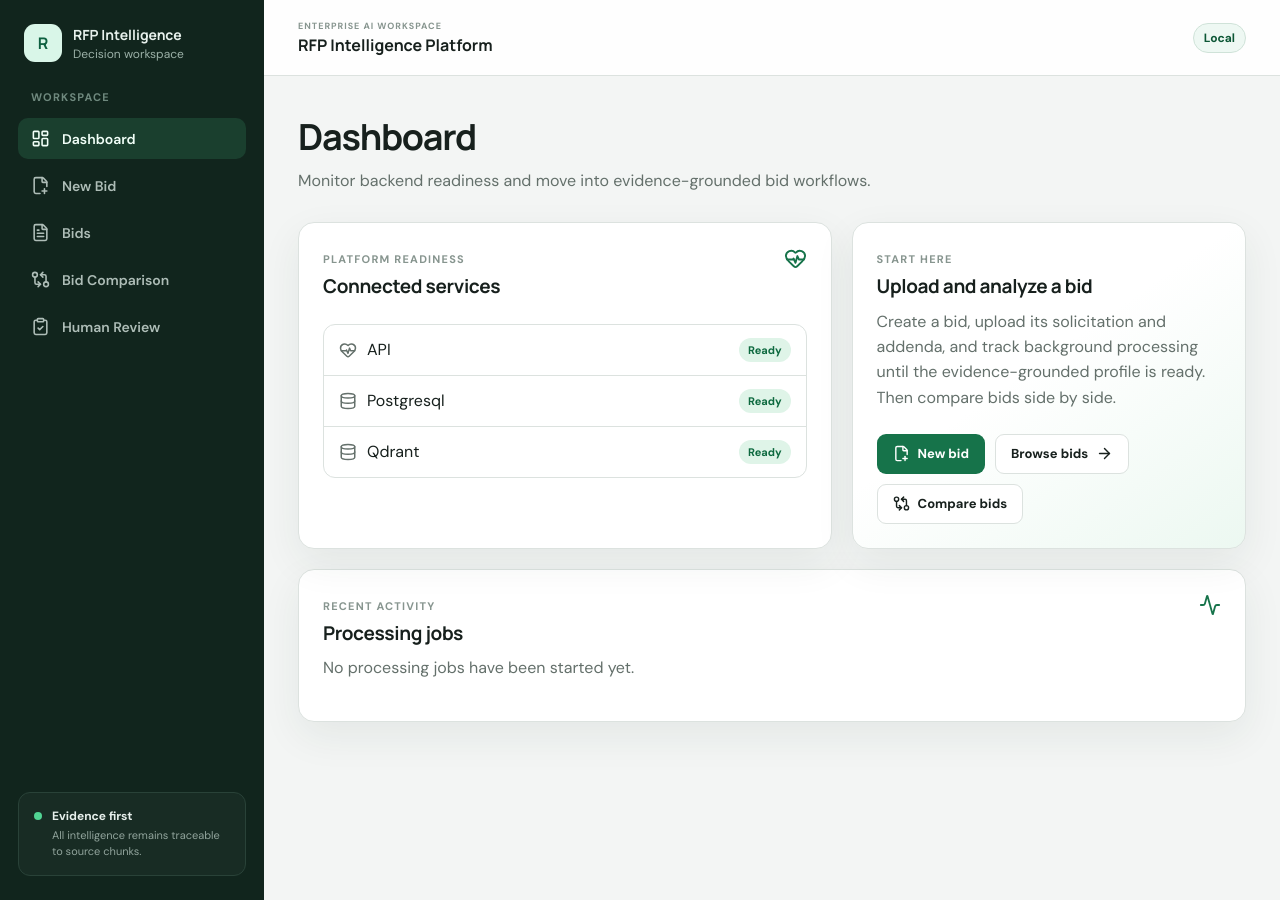
it: application routing › navigates between supported routes
Click the link "Bids" at [61, 232], box [31, 223, 91, 242]
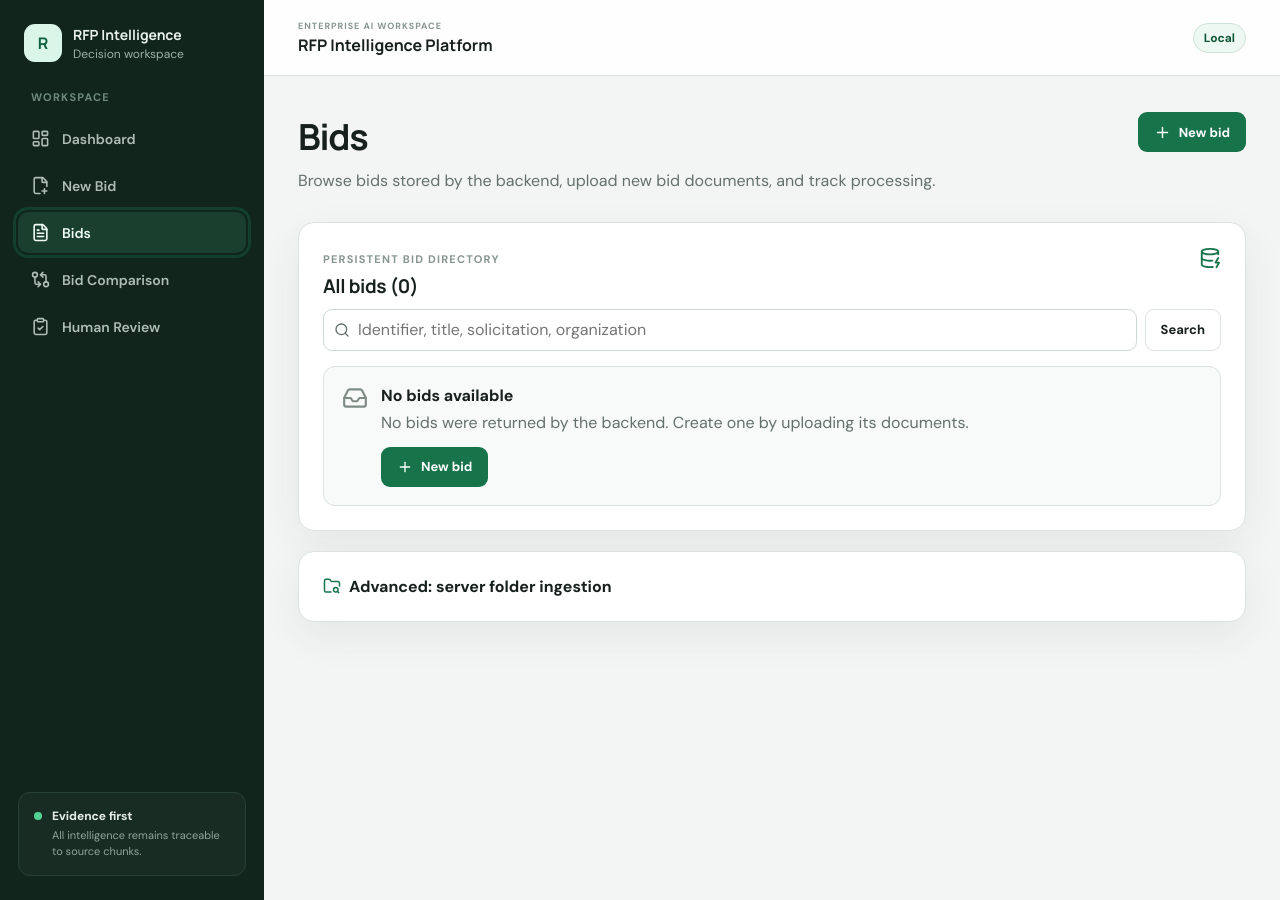
expect the heading "Bids" is shown: met, box [298, 112, 368, 161]
expect the text "No bids available" is shown: met, box [381, 385, 513, 406]
